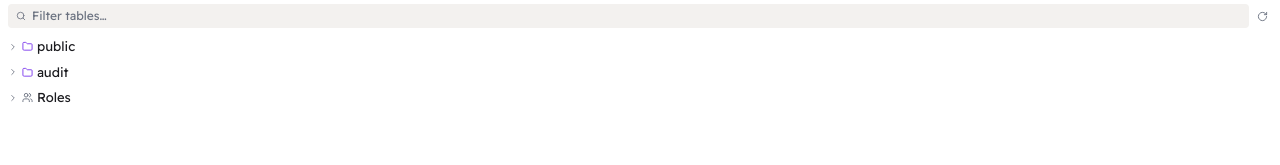
error nodes › reports a failed object load under the schema it belongs to
Expected: the text "public" is shown, [37,38,75,54]
Click the button named "Expand" next to "public": x=13, y=47 [8,42,18,52]
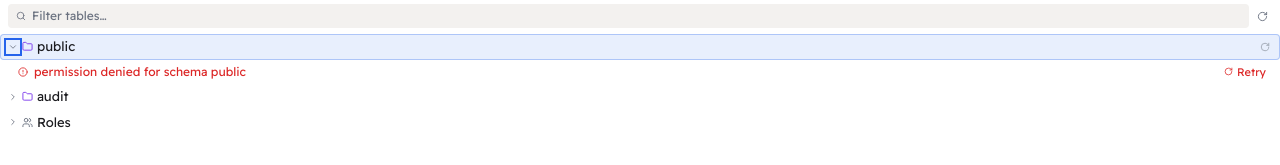
Expected: the text "audit" is shown, [37,88,68,104]
Result: the text "permission denied for schema public" is shown at [34,64,246,79]
Click the button "Retry": x=1245, y=72 [1218,62,1272,81]
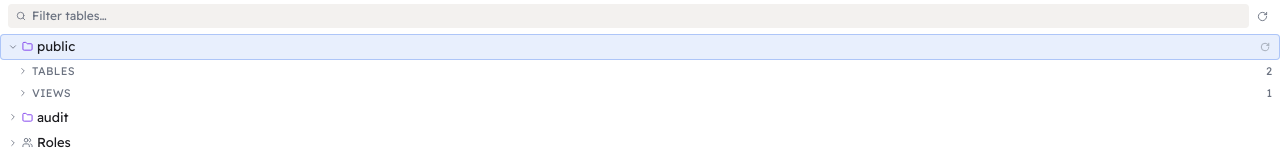
Result: the text "Tables" is shown at [32,64,75,78]
Result: the button "Retry" is gone
